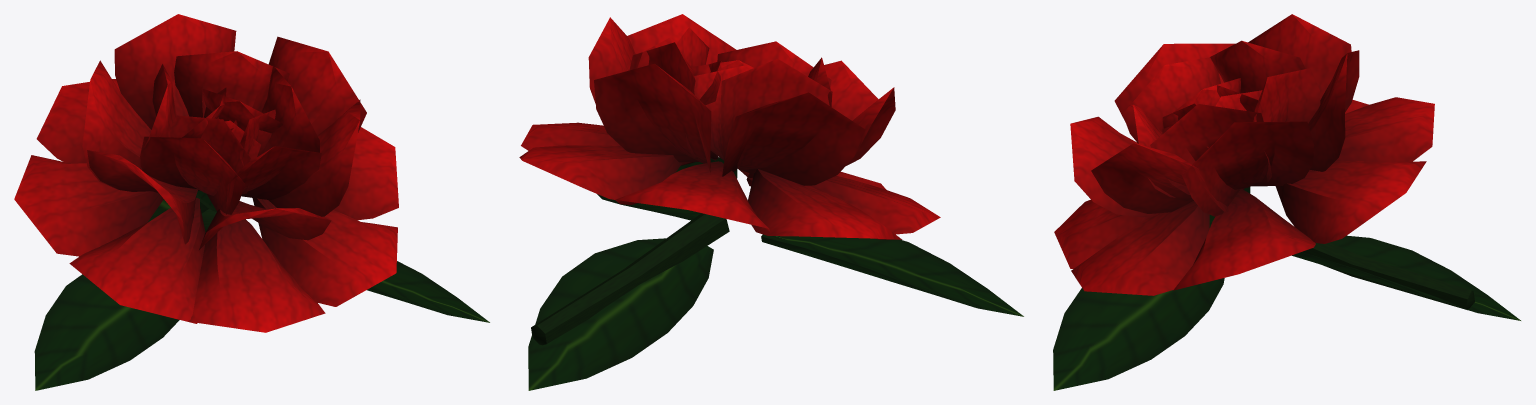
The model's file is item_rose.glb.
3 views of the same model, side by side, from view 1: azimuth 30°, elevation 25°; view 2: azimuth 150°, elevation 25°; view 3: azimuth 270°, elevation 25° (orthographic). The views are drawn at different scales.
Parts seen in each view (by area): view 1: rose; view 2: rose; view 3: rose.
Part boxes in pixels (<box>): rose: <box>14,14,489,390</box>; rose: <box>519,14,1023,390</box>; rose: <box>1053,14,1520,390</box>.
Bounding box in the file's own units: 0.6802 × 0.3888 × 0.6534.
1 material, 1 textured.
